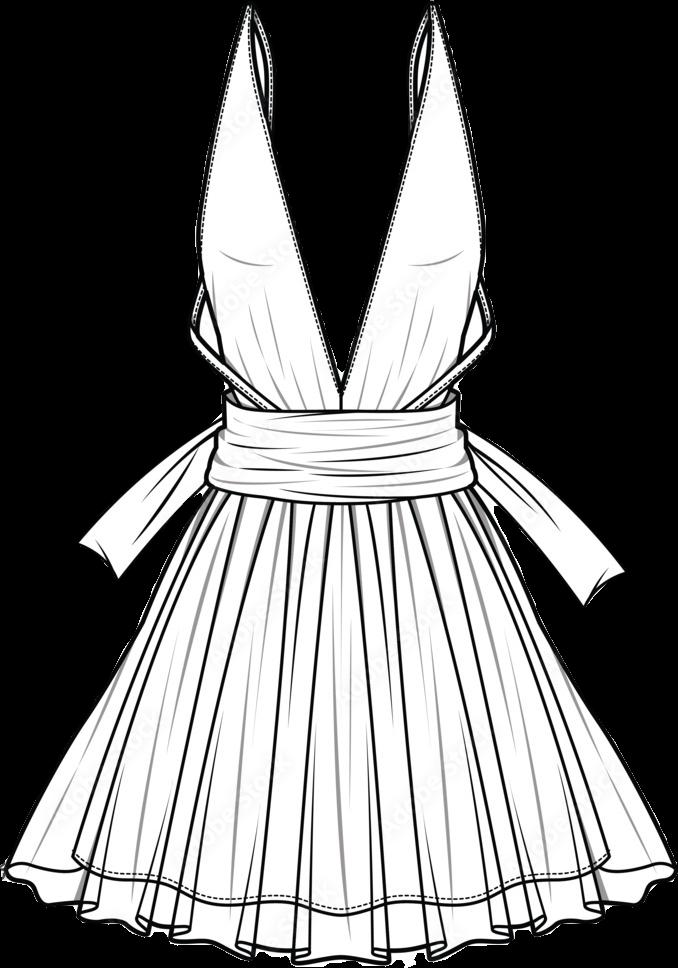Bodice: (195, 1, 485, 410)
Hemline: (2, 866, 677, 967), (0, 856, 676, 916)
Neckline: (244, 0, 439, 392)
Skirt: (1, 395, 675, 967)
Waistline: (202, 475, 486, 508), (223, 389, 460, 416)
